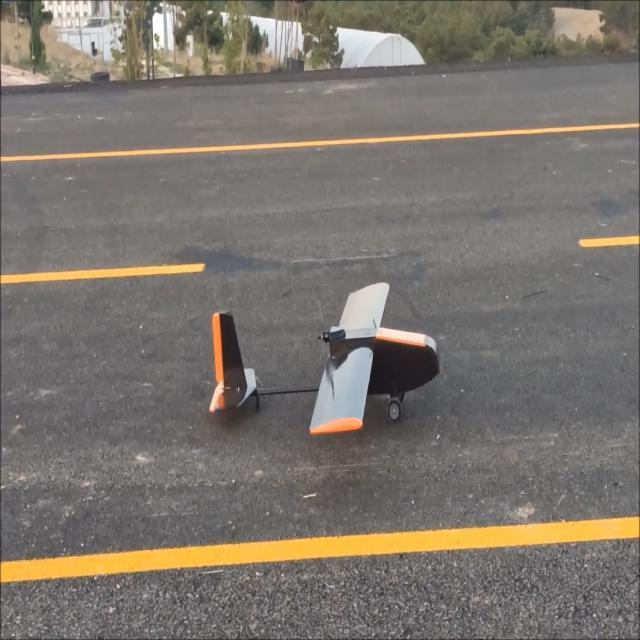UAV: (150, 272, 437, 472)
